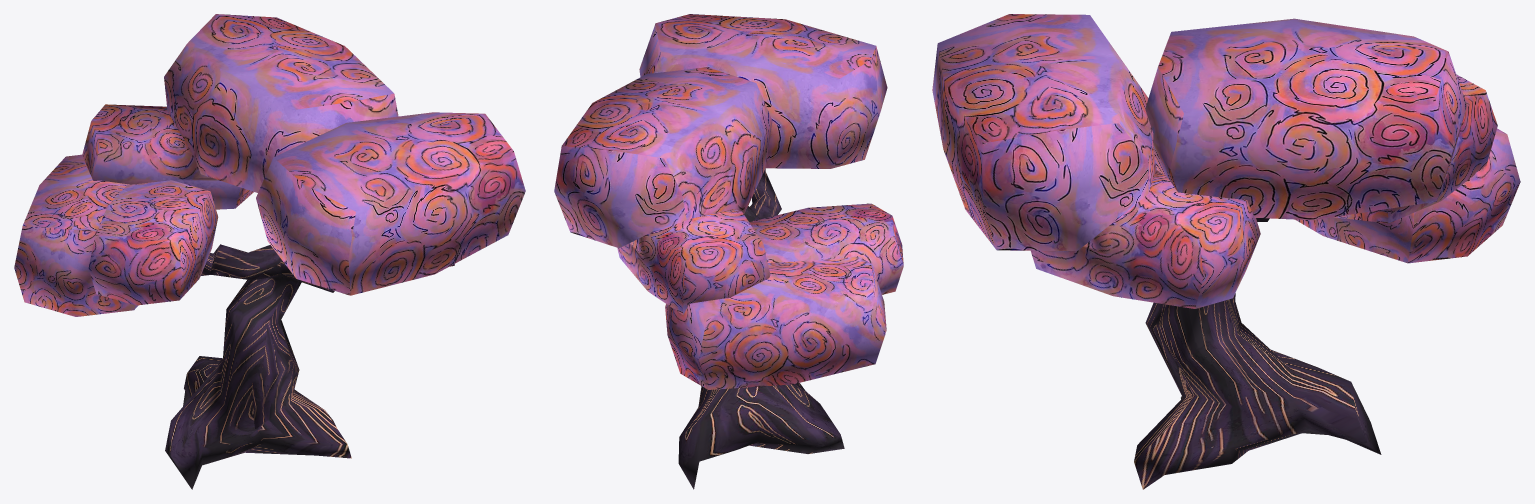
The model's file is pm-tree-02.glb.
3 views of the same model, side by side, from view 1: azimuth 30°, elevation 25°; view 2: azimuth 150°, elevation 25°; view 3: azimuth 270°, elevation 25° (orthographic). The views are drawn at different scales.
Parts seen in each view (by area): view 1: Tree_02_Art; view 2: Tree_02_Art; view 3: Tree_02_Art.
Boxes of the visible parts, x1,y1,x2,y2 form: Tree_02_Art: (14, 14, 525, 489); Tree_02_Art: (554, 14, 903, 489); Tree_02_Art: (932, 14, 1520, 489).
Size of what is drawn, in the model's own units: 12.79 by 11.74 by 14.03.
2 materials, 2 textured.
